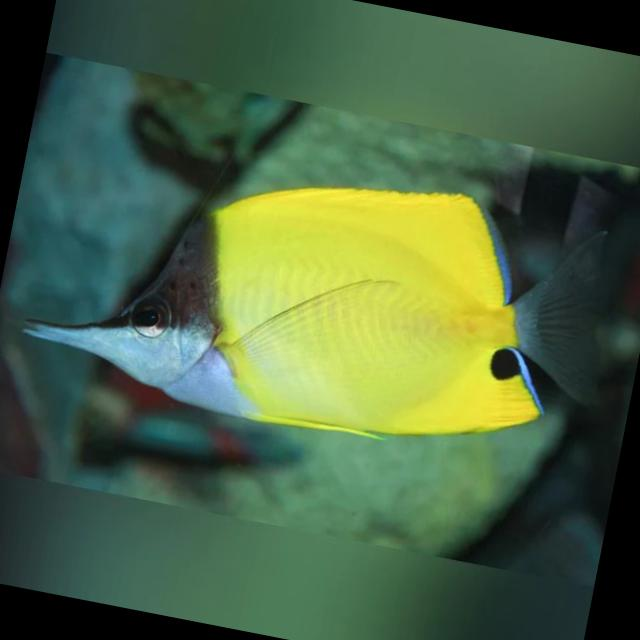ButterflyFish: (4, 116, 619, 486)
